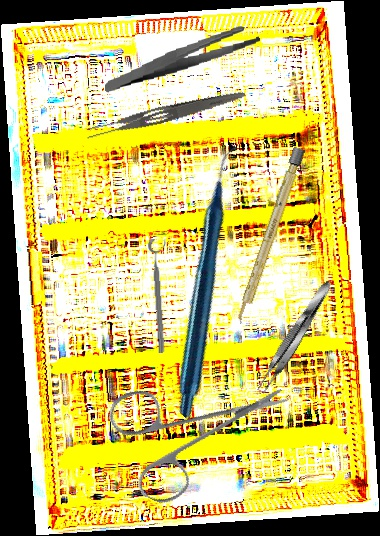Dressing Forceps: (100, 24, 264, 93), (83, 83, 247, 143)
Fixation Ring: (147, 237, 175, 354)
Handpiece: (72, 143, 349, 421)
Iris Scissors: (83, 329, 292, 534)
Scalpel Handle: (233, 146, 306, 326)
Tissue Forceps: (252, 277, 338, 397)
